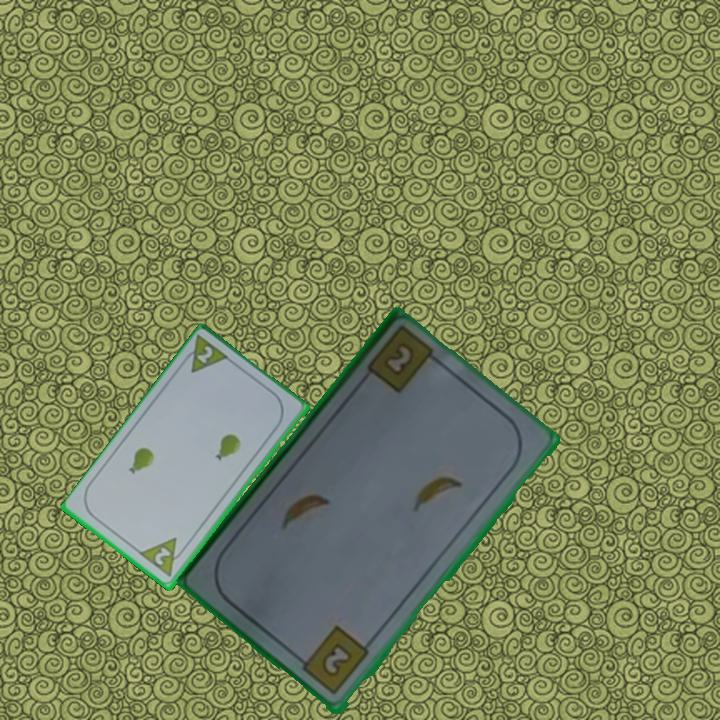2b: (294, 622, 373, 699), (379, 342, 414, 380)
2p: (177, 332, 233, 377), (151, 544, 174, 569)
